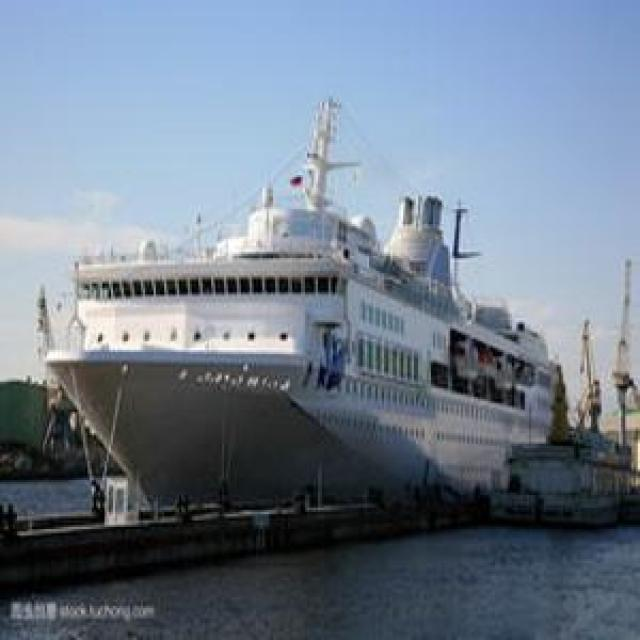passenger ship: (59, 98, 566, 518), (515, 359, 634, 525)
